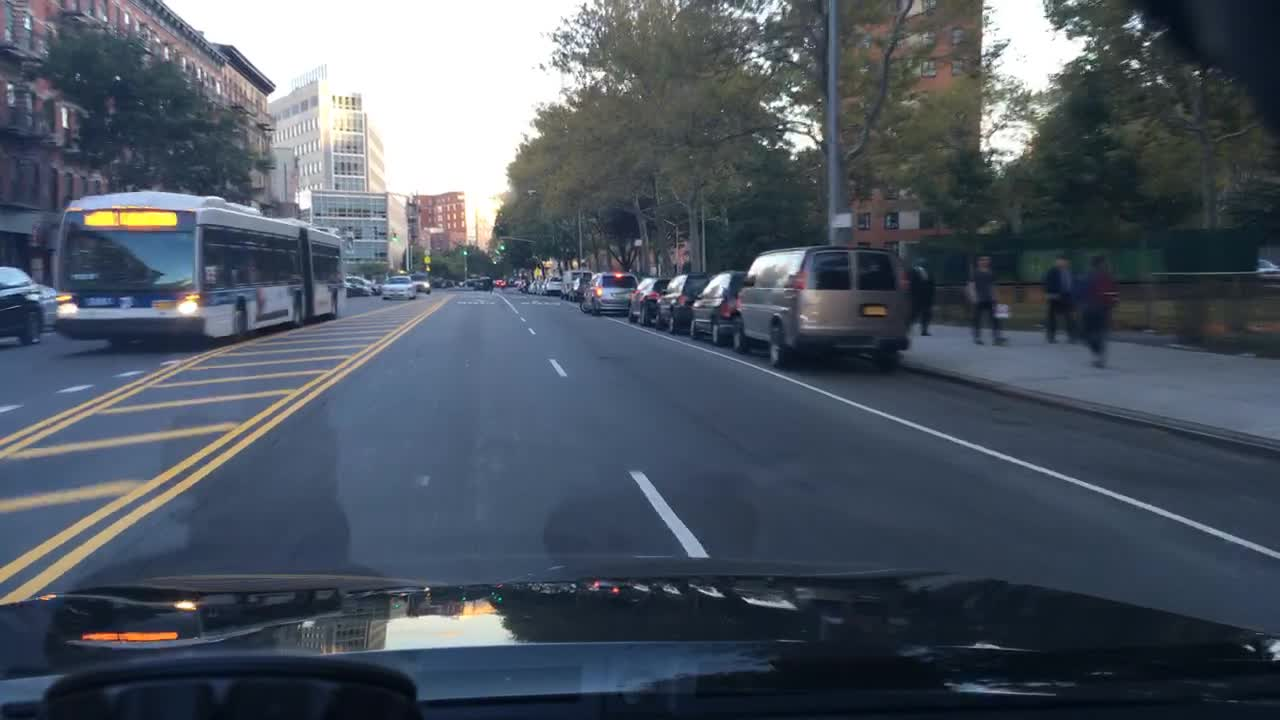bus: (51, 191, 348, 346)
car: (730, 241, 912, 373), (0, 264, 57, 345), (690, 270, 746, 347), (654, 271, 709, 335), (579, 270, 640, 315), (627, 275, 673, 327), (559, 270, 593, 302), (378, 273, 418, 299), (410, 272, 432, 293), (544, 274, 564, 296), (346, 275, 375, 289), (473, 275, 494, 290), (346, 284, 372, 296), (535, 275, 550, 295), (429, 276, 445, 288), (526, 278, 538, 294), (459, 276, 476, 287), (518, 278, 530, 291), (371, 279, 382, 293), (506, 274, 518, 286), (492, 278, 506, 288), (443, 278, 457, 287), (514, 276, 524, 288)
person: (1071, 251, 1118, 367), (962, 251, 1013, 345), (1039, 249, 1083, 346), (904, 253, 934, 334)
traffic sign: (533, 267, 543, 276)
